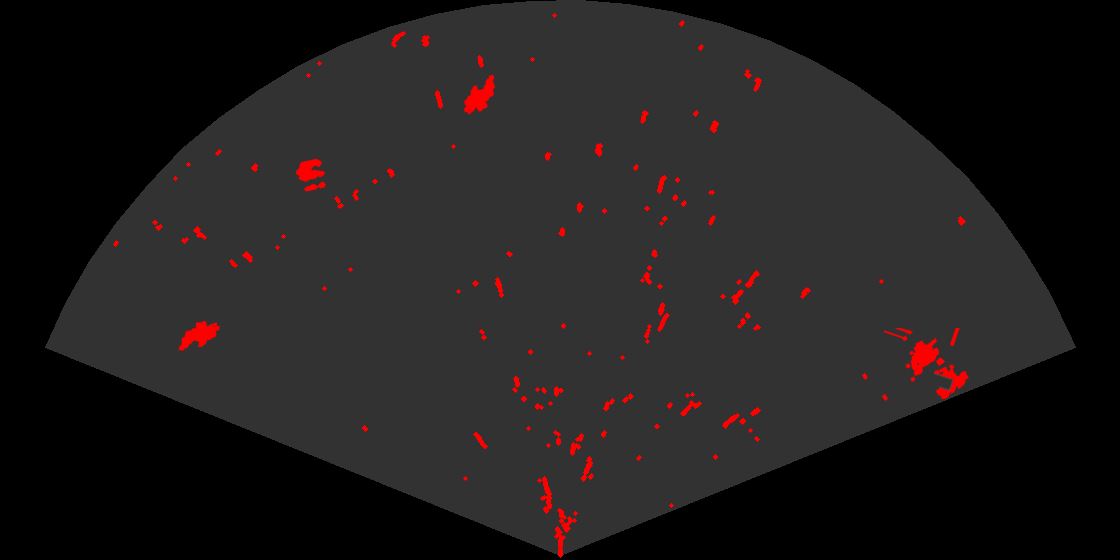AUV: (462, 73, 497, 116), (177, 319, 221, 352)
ball: (294, 157, 328, 193)
cage: (884, 328, 970, 401)
